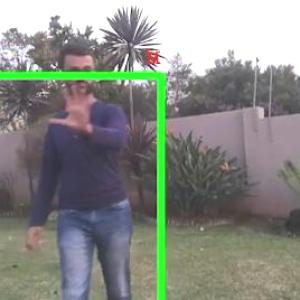follow_hand: (46, 83, 100, 136)
